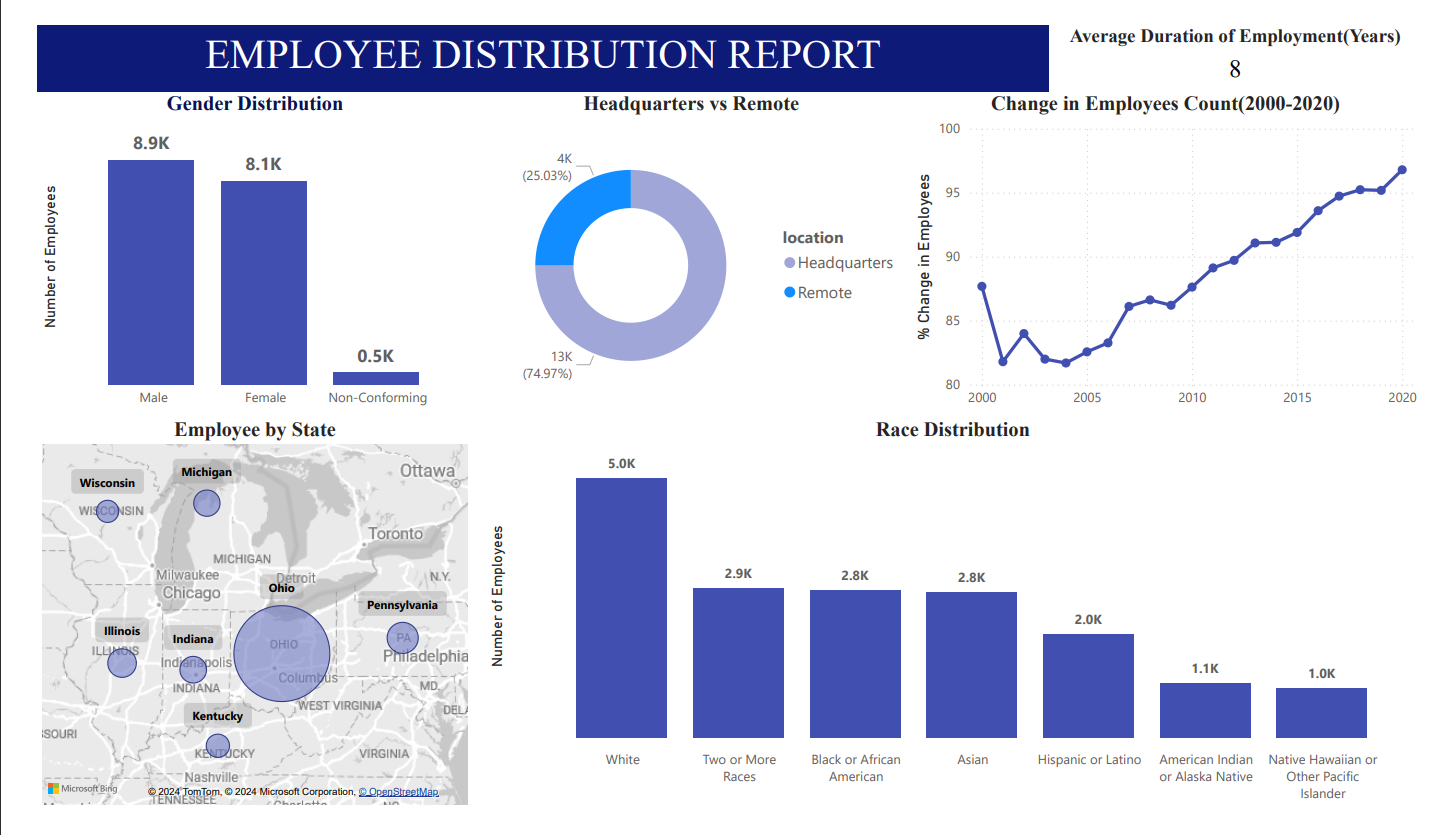

The page's visual inventory and layout, read from the dashboard file:
{"tool":"powerbi","page":{"name":"Page 1","canvas":[1280,720],"ordinal":0},"visuals":[{"type":"textbox","box":[10,0,928.2,61],"z":0},{"type":"card","title":"Average Duration of Employment(Years)","fields":{"Values":["Sum(avg_length_employment.avg_length_employeement)"]},"box":[938.2,0,342.1,61],"z":1000},{"type":"columnChart","title":"Gender Distribution","fields":{"Category":["gender.gender"],"Y":["Sum(gender.count)"]},"box":[10,61,400.1,299.1],"z":2000},{"type":"donutChart","title":"Headquarters vs Remote","fields":{"Y":["Sum(location.count)"],"Category":["location.location"]},"box":[410.1,61,400.1,299.1],"z":3000},{"type":"lineChart","title":"Change in Employees Count(2000-2020)","fields":{"Category":["employee_change.YEAR"],"Y":["Sum(employee_change.net_change_percentage)"]},"box":[810.2,61,470.1,299.1],"z":4000},{"type":"map","title":"Employee by State","fields":{"Size":["Sum(state_distribution.count)"],"Category":["state_distribution.location_state"]},"box":[10,360.1,400.1,360.1],"z":5000},{"type":"clusteredColumnChart","title":"Race Distribution","fields":{"Category":["race.race"],"Y":["Sum(race.count)"]},"box":[420.1,360.1,860.2,360.1],"z":6000}]}

Visuals, with their boxes in screenshot pixels (x1, y1, x2, y2), scaled from the page's 1280x720 canvas onto the 1446x835 screenshot:
textbox: [left=11, top=0, right=1060, bottom=71]
"Average Duration of Employment(Years)" card: [left=1060, top=0, right=1445, bottom=71]
"Gender Distribution" columnChart: [left=11, top=71, right=463, bottom=418]
"Headquarters vs Remote" donutChart: [left=463, top=71, right=915, bottom=418]
"Change in Employees Count(2000-2020)" lineChart: [left=915, top=71, right=1445, bottom=418]
"Employee by State" map: [left=11, top=418, right=463, bottom=834]
"Race Distribution" clusteredColumnChart: [left=475, top=418, right=1445, bottom=834]
